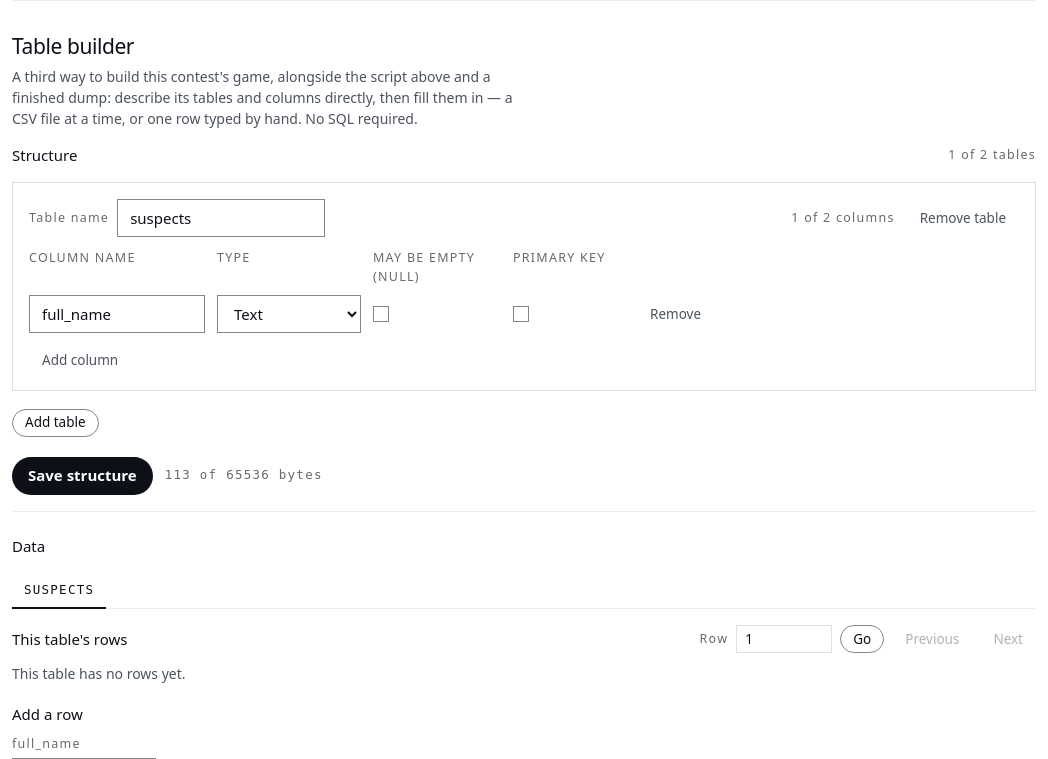
Test: the table builder's own structure editor › a refusal is shown in the organiser's own language, not as a code
The image size is (1048, 759).
Click the button "Save structure": {"x": 82, "y": 476} [12, 457, 153, 495]
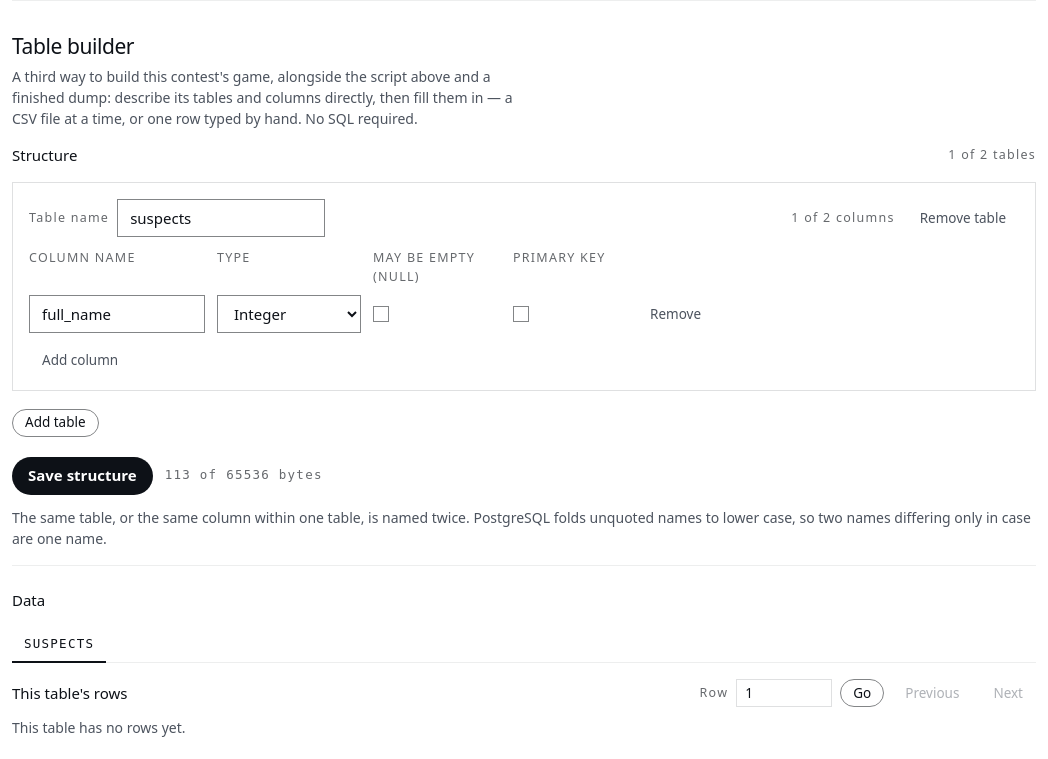
Expected: the text "The same table, or the same column within one table, is named twice. PostgreSQL folds unquoted names to lower case, so t" is shown, [12, 508, 1031, 548]
